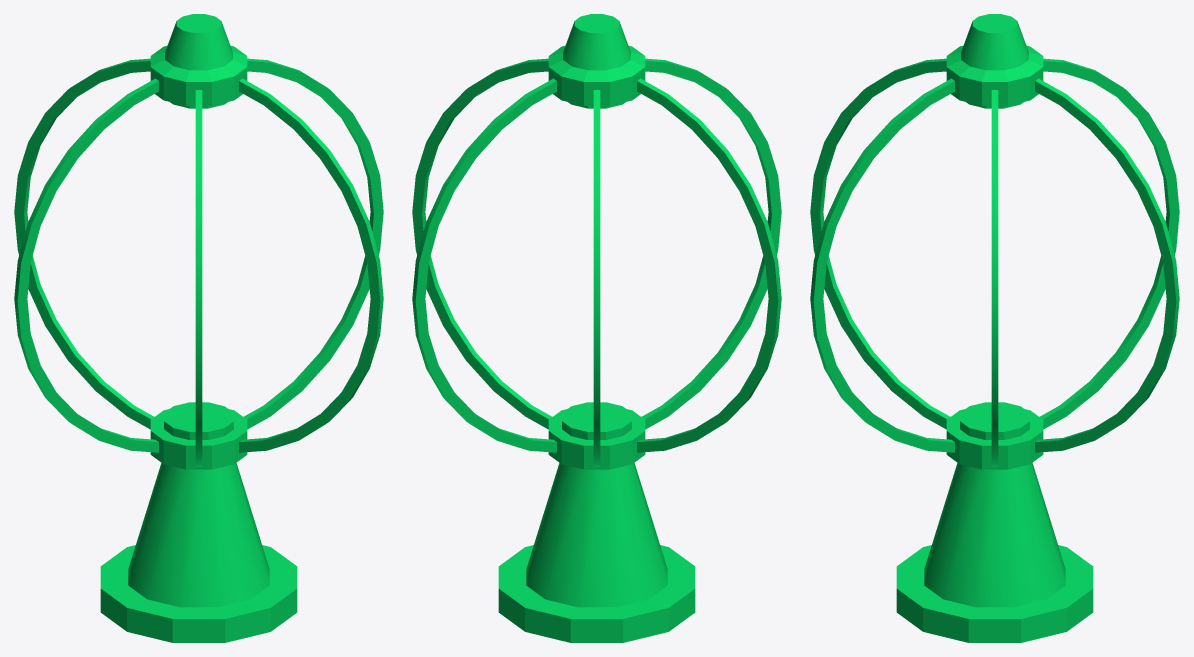
The model's file is SM_MapModel_FacilityDeviceStructure.FBX.
3 views of the same model, side by side, from view 1: azimuth 30°, elevation 25°; view 2: azimuth 150°, elevation 25°; view 3: azimuth 270°, elevation 25° (orthographic).
Visible parts, largest first — view 1: Cylinder001; view 2: Cylinder001; view 3: Cylinder001.
Boxes of the visible parts, x1=… form: Cylinder001: x1=14, y1=14, x2=383, y2=642; Cylinder001: x1=412, y1=14, x2=781, y2=642; Cylinder001: x1=810, y1=14, x2=1179, y2=642.
Bounding box in the file's own units: 34835 × 52561 × 30449.
